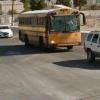buses: (17, 8, 87, 52)
